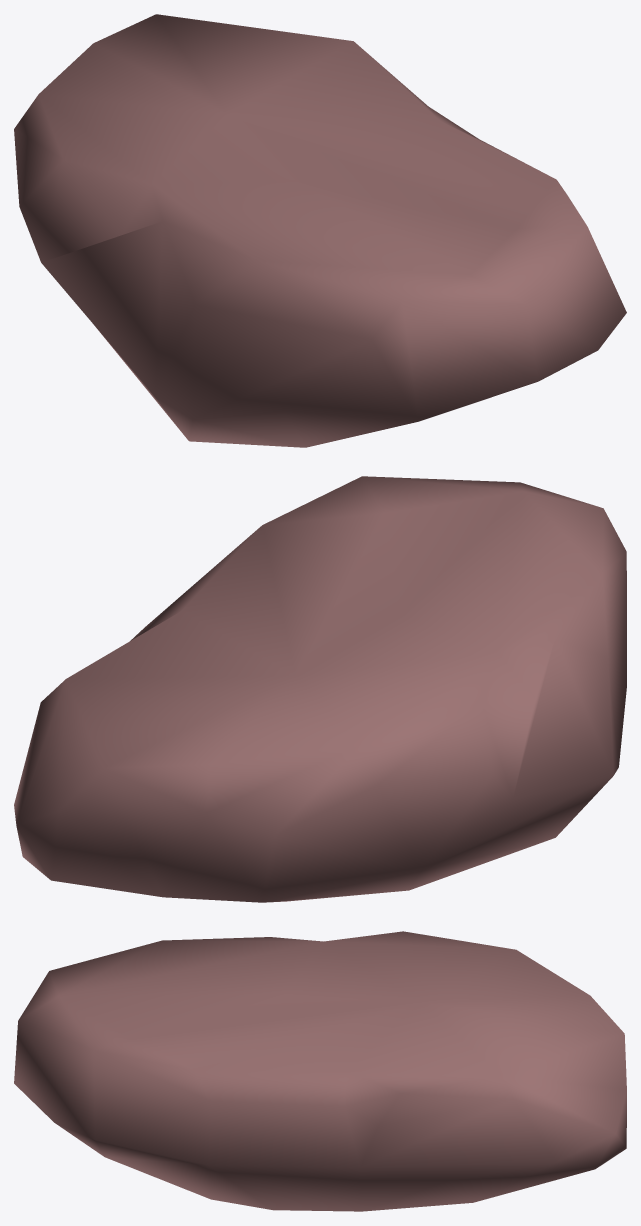
File: small_rock_04.fbx
3 renders of one model, top to bottom at view 1: azimuth 30°, elevation 25°; view 2: azimuth 150°, elevation 25°; view 3: azimuth 270°, elevation 25°, orthographic. The views are drawn at different scales.
Parts seen in each view (by area): view 1: small_rock_04; view 2: small_rock_04; view 3: small_rock_04.
Boxes of the visible parts, x1,y1,x2,y2 form: small_rock_04: (14,14,626,447); small_rock_04: (14,476,626,902); small_rock_04: (14,931,626,1211).
Bounding box in the file's own units: 65.23 × 34.15 × 111.
